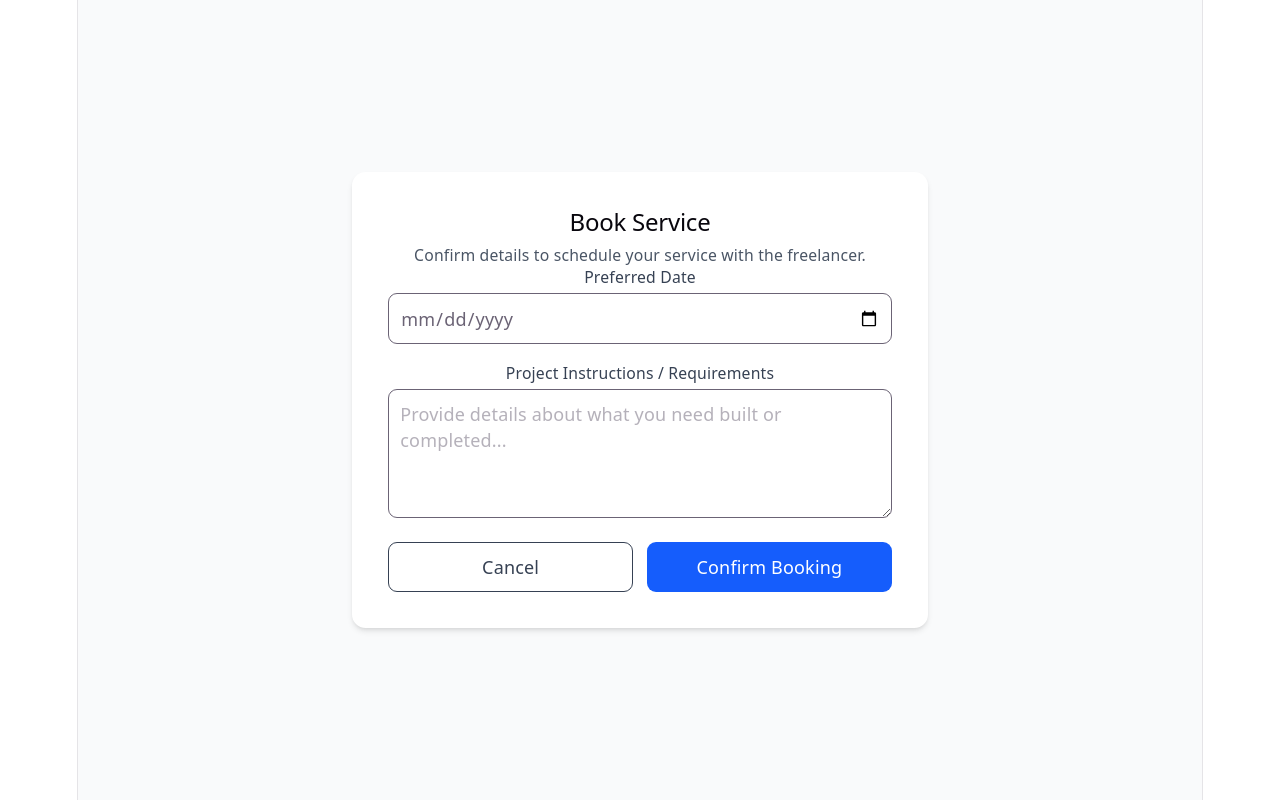
Test: Booking (wired to the API) › sends only gigId and a note, then shows the transaction reference
Type "2026-11-01" into the date field at (640, 319), box 388,293 -> 892,344
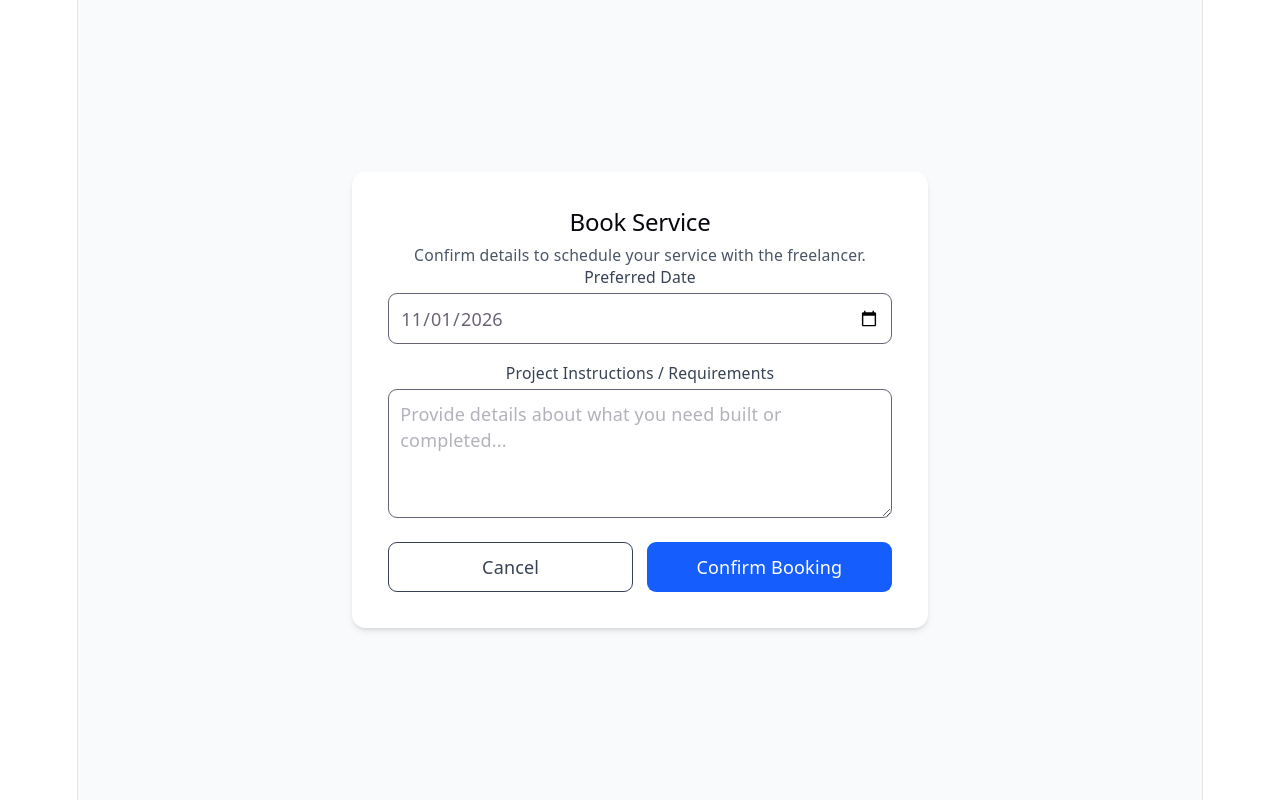
Click the button "Confirm Booking" at (769, 567), box 647,542 -> 892,592
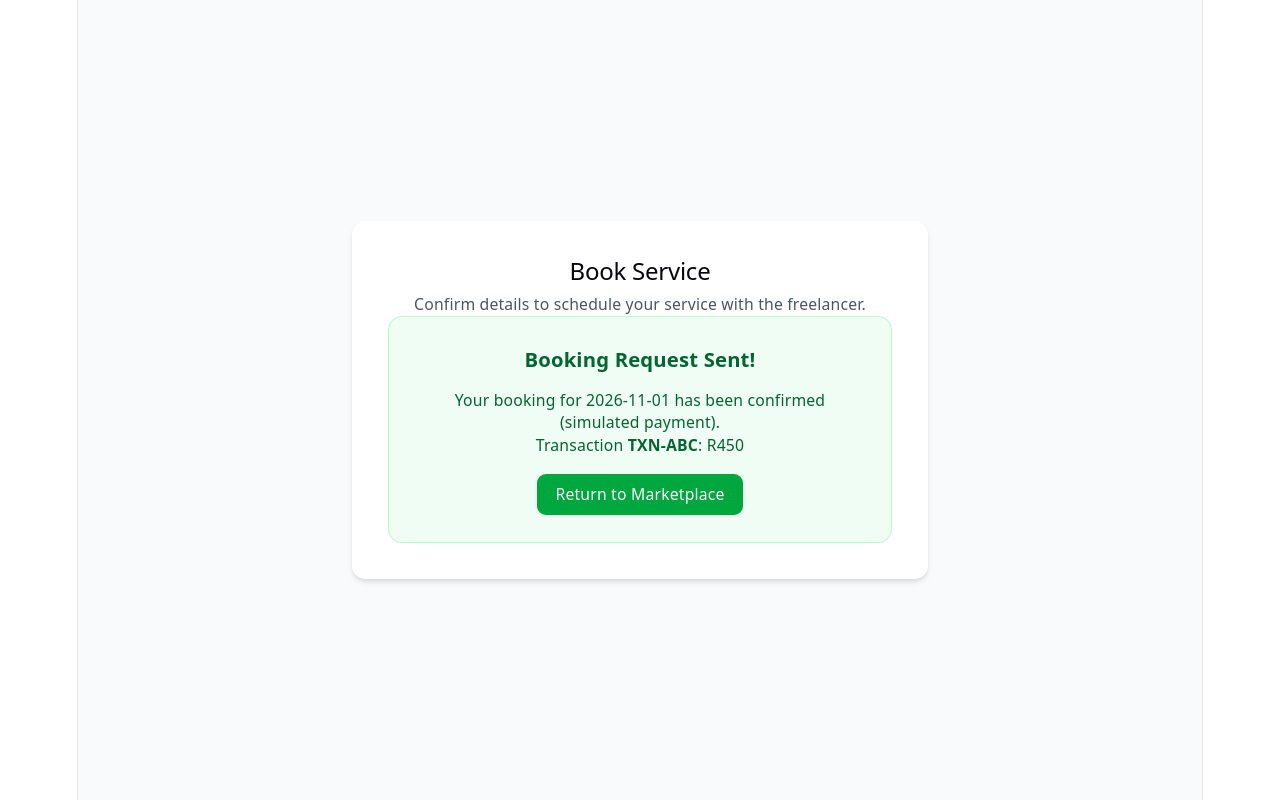
expect the text "TXN-ABC" is shown: met, box 628,434 -> 698,456
